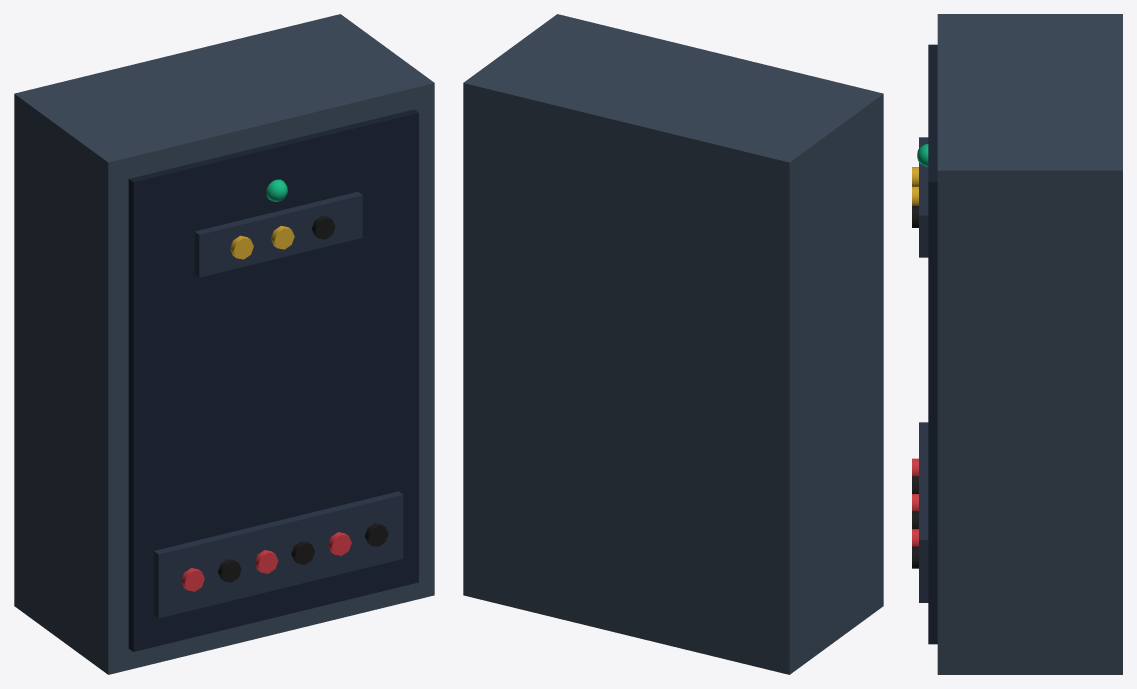
Rendered from power-supply.glb.
3 views of the same model, side by side, from view 1: azimuth 30°, elevation 25°; view 2: azimuth 150°, elevation 25°; view 3: azimuth 270°, elevation 25° (orthographic).
Size of the model in its own units: 0.8 by 1.2 by 0.455.
